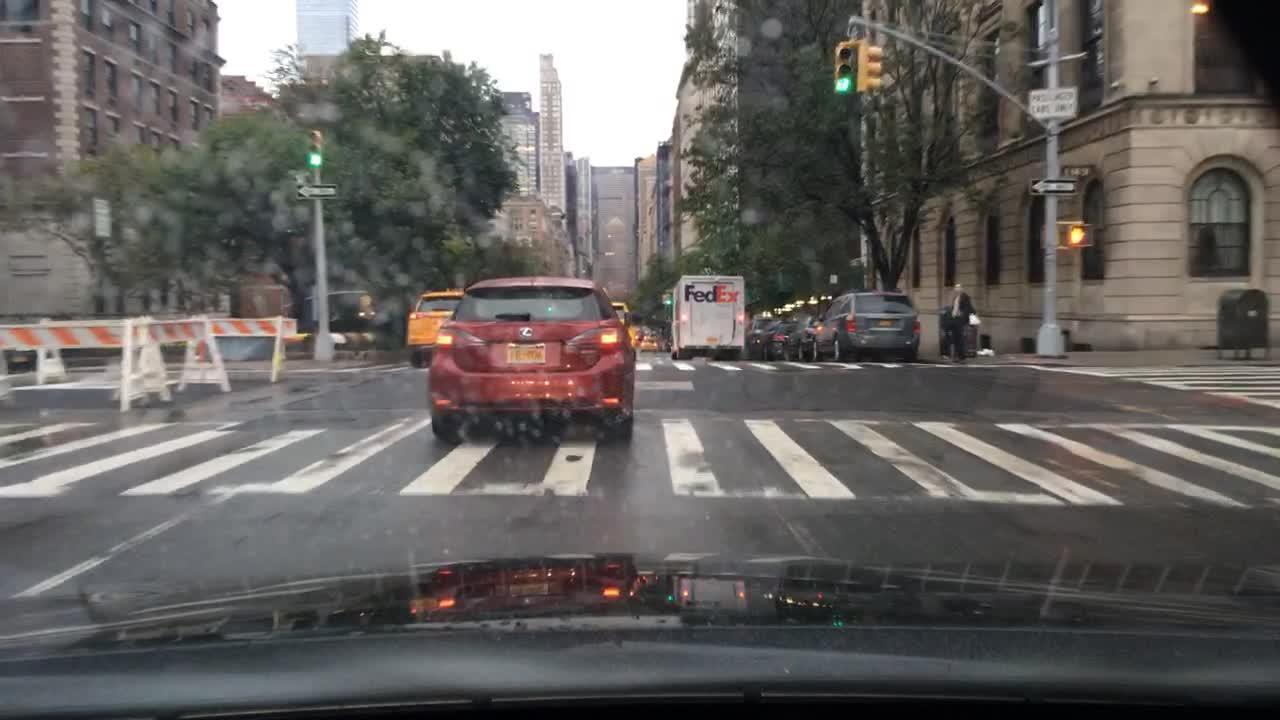lexus: (516, 323, 536, 344)
